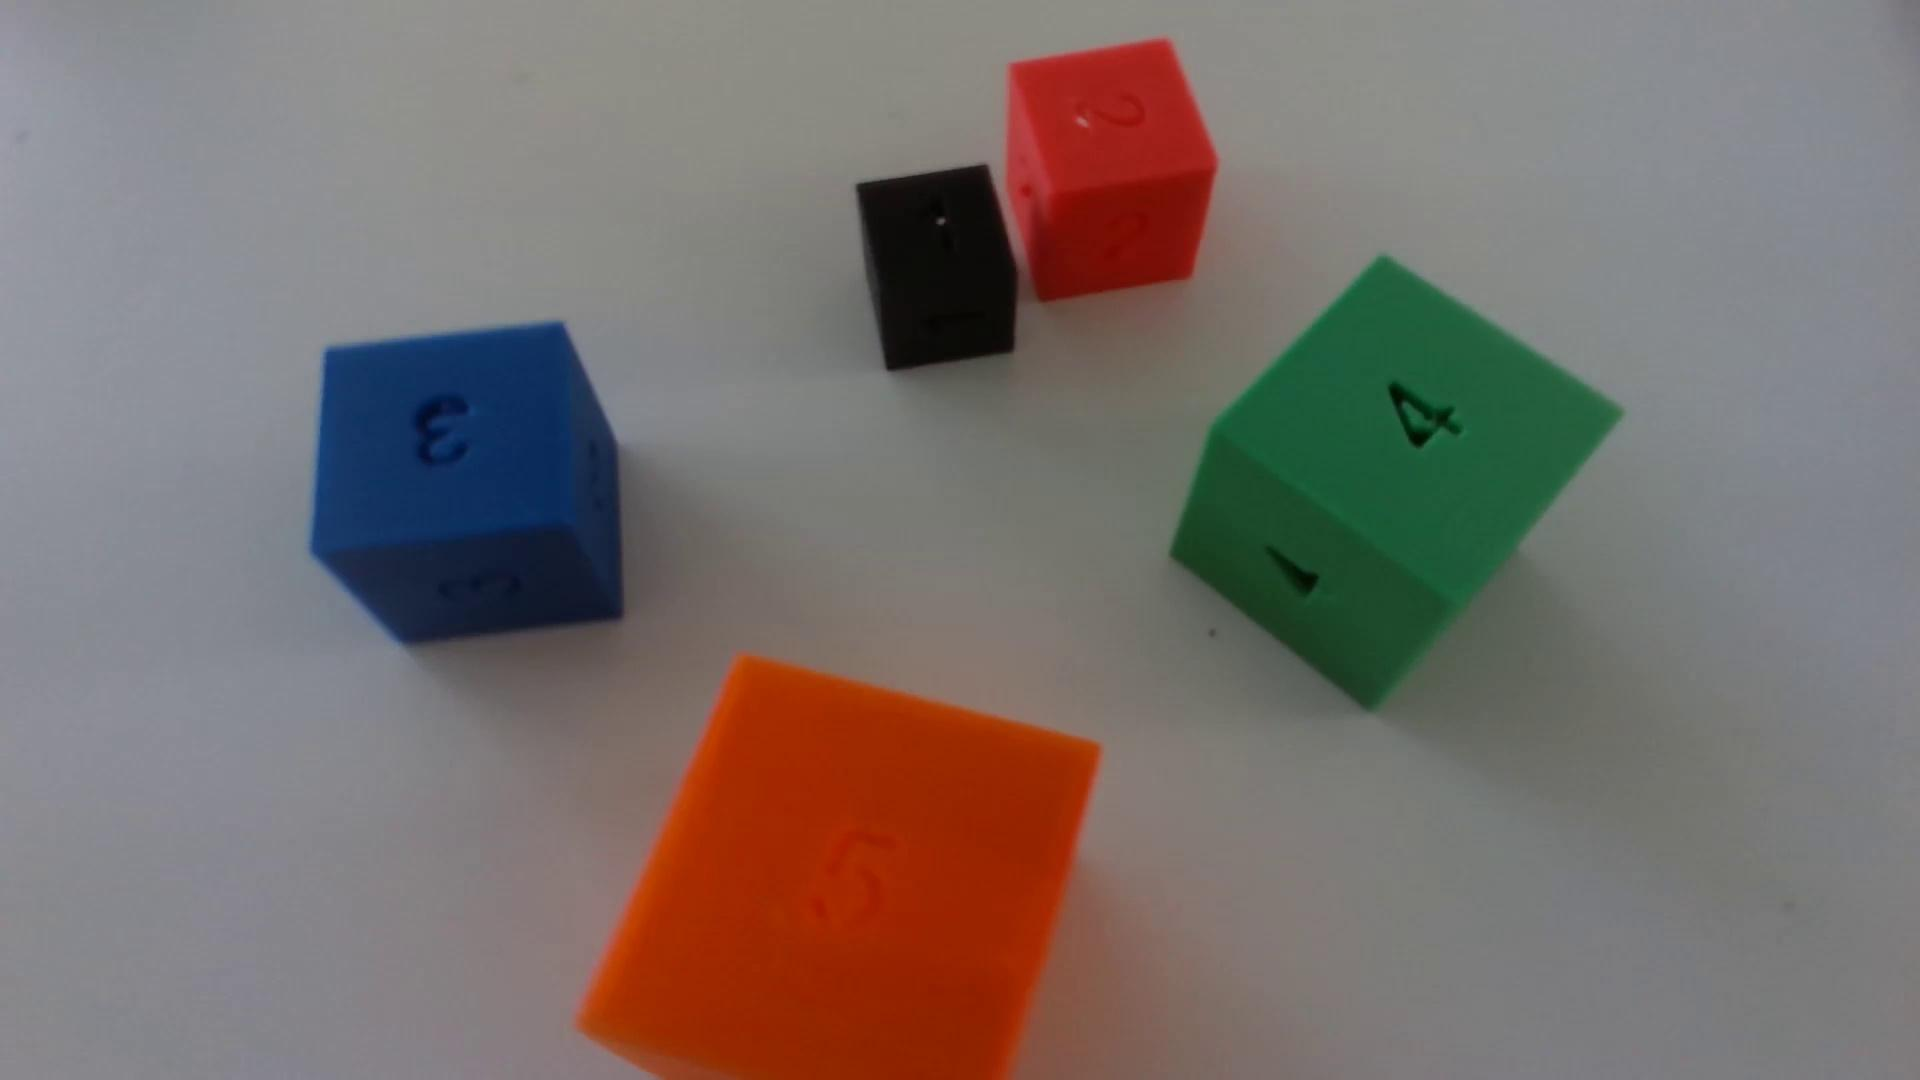black: (855, 165, 1018, 373)
blue: (310, 324, 624, 646)
green: (1171, 258, 1619, 709)
orange: (579, 658, 1100, 1080)
red: (1004, 40, 1217, 303)
